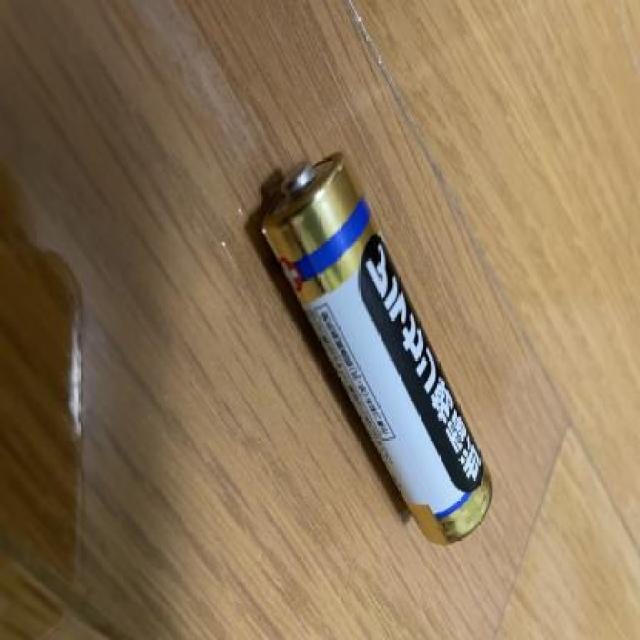hazardous waste: (255, 142, 496, 550)
